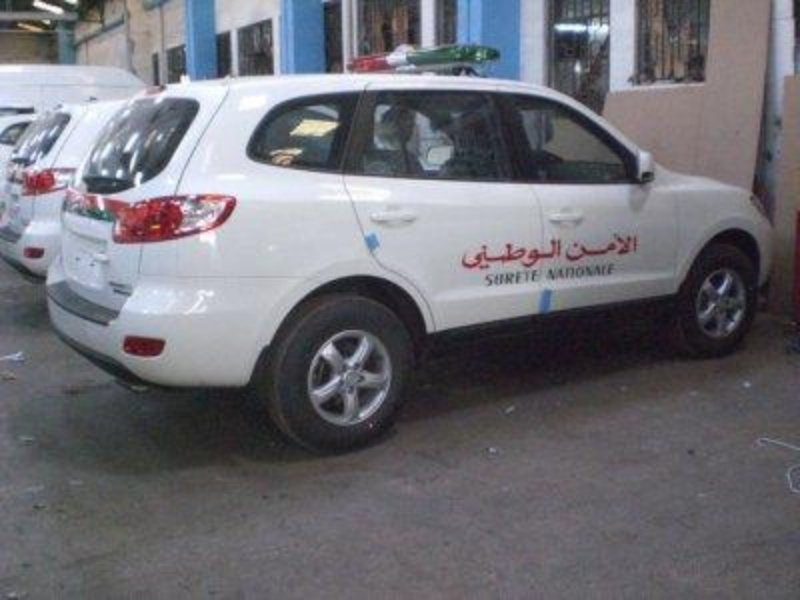text: (465, 239, 480, 271), (481, 239, 496, 271), (497, 239, 512, 271), (513, 239, 528, 271), (529, 239, 544, 271), (545, 239, 560, 271), (577, 231, 592, 263), (593, 231, 608, 263), (609, 231, 624, 263), (625, 231, 639, 263), (563, 231, 576, 263), (561, 261, 576, 285), (577, 261, 592, 285), (593, 261, 608, 285), (547, 261, 560, 285), (497, 269, 512, 289), (513, 269, 528, 289), (529, 269, 543, 289), (609, 261, 619, 285), (485, 269, 496, 289), (460, 239, 464, 271), (561, 239, 563, 271)
